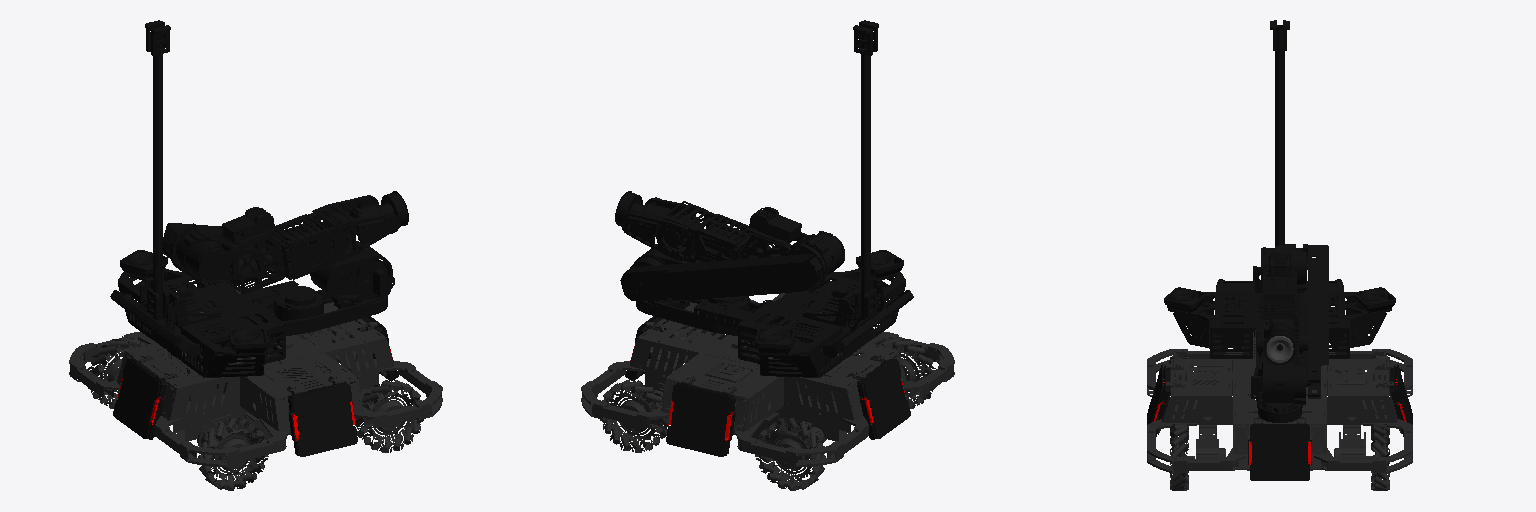
URDF robot description (Engineer_Robot):
<?xml version="1.0" encoding="utf-8"?>
<!-- This URDF was automatically created by SolidWorks to URDF Exporter! Originally created by [author] ([email redacted]) 
     Commit Version: 1.6.0-4-g7f85cfe  Build Version: 1.6.7995.38578
     For more information, please see http://wiki.ros.org/sw_urdf_exporter -->
<robot
  name="Engineer_Robot">
  <link
    name="base_link">
    <inertial>
      <origin
        xyz="-0.0055963 0.017859 0.11879"
        rpy="0 0 0" />
      <mass
        value="7.3797" />
      <inertia
        ixx="0.015845"
        ixy="6.479E-07"
        ixz="3.208E-06"
        iyy="0.025117"
        iyz="2.7788E-06"
        izz="0.036817" />
    </inertial>
    <visual>
      <origin
        xyz="0 0 0"
        rpy="0 0 0" />
      <geometry>
        <mesh
          filename="package://Engineer_Robot/meshes/base_link.STL" />
      </geometry>
      <material
        name="black">
        <color
          rgba="0.2 0.2 0.2 1" />
      </material>
    </visual>
    <collision>
      <origin
        xyz="0 0 0"
        rpy="0 0 0" />
      <geometry>
        <mesh
          filename="package://Engineer_Robot/meshes/base_link.STL" />
      </geometry>
    </collision>
  </link>
  <link
    name="Armor_link">
    <inertial>
      <origin
        xyz="-2.0487E-15 -3.3999E-15 0.22827"
        rpy="0 0 0" />
      <mass
        value="1.0609" />
      <inertia
        ixx="0.04212"
        ixy="-6.3375E-16"
        ixz="-3.8306E-16"
        iyy="0.04212"
        iyz="5.5474E-16"
        izz="0.043272" />
    </inertial>
    <visual>
      <origin
        xyz="0 0 0"
        rpy="0 0 0" />
      <geometry>
        <mesh
          filename="package://Engineer_Robot/meshes/Armor_link.STL" />
      </geometry>
      <material
        name="black">
        <color
          rgba="0.1 0.1 0.1 1" />
      </material>
    </visual>
    <collision>
      <origin
        xyz="0 0 0"
        rpy="0 0 0" />
      <geometry>
        <mesh
          filename="package://Engineer_Robot/meshes/Armor_link.STL" />
      </geometry>
    </collision>
  </link>
  <joint
    name="Armor_joint"
    type="fixed">
    <origin
      xyz="0 0 0"
      rpy="0 0 0" />
    <parent
      link="base_link" />
    <child
      link="Armor_link" />
    <axis
      xyz="0 0 0" />
  </joint>
  <link
    name="Armor_light_link">
    <inertial>
      <origin
        xyz="7.5251E-16 2.1975E-15 0.13026"
        rpy="0 0 0" />
      <mass
        value="0.028432" />
      <inertia
        ixx="8.7023E-06"
        ixy="3.3947E-21"
        ixz="1.5404E-20"
        iyy="8.7023E-06"
        iyz="1.7364E-20"
        izz="1.2557E-06" />
    </inertial>
    <visual>
      <origin
        xyz="0 0 0"
        rpy="0 0 0" />
      <geometry>
        <mesh
          filename="package://Engineer_Robot/meshes/Armor_light_link.STL" />
      </geometry>
      <material
        name="red">
        <color
          rgba="1 0 0 1" />
      </material>
    </visual>
    <collision>
      <origin
        xyz="0 0 0"
        rpy="0 0 0" />
      <geometry>
        <mesh
          filename="package://Engineer_Robot/meshes/Armor_light_link.STL" />
      </geometry>
    </collision>
  </link>
  <joint
    name="Armor_light_joint"
    type="fixed">
    <origin
      xyz="0 0 0"
      rpy="0 0 0" />
    <parent
      link="Armor_link" />
    <child
      link="Armor_light_link" />
    <axis
      xyz="0 0 0" />
  </joint>
  <link
    name="L1">
    <inertial>
      <origin
        xyz="-0.060868 -0.002963 0.27584"
        rpy="0 0 0" />
      <mass
        value="5.3051" />
      <inertia
        ixx="0.16383"
        ixy="-2.5432E-06"
        ixz="-5.6383E-05"
        iyy="0.16306"
        iyz="1.0311E-05"
        izz="0.26379" />
    </inertial>
    <visual>
      <origin
        xyz="0 0 0"
        rpy="0 0 0" />
      <geometry>
        <mesh
          filename="package://Engineer_Robot/meshes/L1.STL" />
      </geometry>
      <material
        name="black">
        <color
          rgba="0.1 0.1 0.1 1" />
      </material>
    </visual>
    <collision>
      <origin
        xyz="0 0 0"
        rpy="0 0 0" />
      <geometry>
        <mesh
          filename="package://Engineer_Robot/meshes/L1.STL" />
      </geometry>
    </collision>
  </link>
  <joint
    name="J1"
    type="continuous">
    <origin
      xyz="0 0 0"
      rpy="0 0 0" />
    <parent
      link="base_link" />
    <child
      link="L1" />
    <axis
      xyz="0 0 1" />
  </joint>
  <link
    name="L2">
    <inertial>
      <origin
        xyz="-0.025806 0.014363 0.04429"
        rpy="0 0 0" />
      <mass
        value="1.1249" />
      <inertia
        ixx="0.00091282"
        ixy="5.7367E-05"
        ixz="0.0001141"
        iyy="0.0016549"
        iyz="-2.0441E-05"
        izz="0.0012244" />
    </inertial>
    <visual>
      <origin
        xyz="0 0 0"
        rpy="0 0 0" />
      <geometry>
        <mesh
          filename="package://Engineer_Robot/meshes/L2.STL" />
      </geometry>
      <material
        name="black">
        <color
          rgba="0.1 0.1 0.1 1" />
      </material>
    </visual>
    <collision>
      <origin
        xyz="0 0 0"
        rpy="0 0 0" />
      <geometry>
        <mesh
          filename="package://Engineer_Robot/meshes/L2.STL" />
      </geometry>
    </collision>
  </link>
  <joint
    name="J2"
    type="continuous">
    <origin
      xyz="0.25 0 0.2461"
      rpy="0 0 0" />
    <parent
      link="L1" />
    <child
      link="L2" />
    <axis
      xyz="0 0 -1" />
  </joint>
  <link
    name="L3">
    <inertial>
      <origin
        xyz="0.20313 -0.00010391 -0.022422"
        rpy="0 0 0" />
      <mass
        value="0.6239" />
      <inertia
        ixx="0.00031376"
        ixy="1.5589E-06"
        ixz="2.153E-05"
        iyy="0.0063851"
        iyz="-3.1694E-11"
        izz="0.0065604" />
    </inertial>
    <visual>
      <origin
        xyz="0 0 0"
        rpy="0 0 0" />
      <geometry>
        <mesh
          filename="package://Engineer_Robot/meshes/L3.STL" />
      </geometry>
      <material
        name="black">
        <color
          rgba="0.1 0.1 0.1 1" />
      </material>
    </visual>
    <collision>
      <origin
        xyz="0 0 0"
        rpy="0 0 0" />
      <geometry>
        <mesh
          filename="package://Engineer_Robot/meshes/L3.STL" />
      </geometry>
    </collision>
  </link>
  <joint
    name="J3"
    type="revolute">
    <origin
      xyz="0 0.0584 0.04895"
      rpy="-1.5707963267949 -0.296705972839045 3.14159265358977" />
    <limit lower="-2" upper="0" effort="1000" velocity="100.0"/>
    <parent
      link="L2" />
    <child
      link="L3" />
    <axis
      xyz="0 0 1" />
  </joint>
  <link
    name="L4">
    <inertial>
      <origin
        xyz="0.034236 -0.013833 0.053129"
        rpy="0 0 0" />
      <mass
        value="1.3522" />
      <inertia
        ixx="0.00095264"
        ixy="3.551E-06"
        ixz="-6.537E-05"
        iyy="0.0009452"
        iyz="-5.0083E-06"
        izz="0.001477" />
    </inertial>
    <visual>
      <origin
        xyz="0 0 0"
        rpy="0 0 0" />
      <geometry>
        <mesh
          filename="package://Engineer_Robot/meshes/L4.STL" />
      </geometry>
      <material
        name="black">
        <color
          rgba="0.1 0.1 0.1 1" />
      </material>
    </visual>
    <collision>
      <origin
        xyz="0 0 0"
        rpy="0 0 0" />
      <geometry>
        <mesh
          filename="package://Engineer_Robot/meshes/L4.STL" />
      </geometry>
    </collision>
  </link>
  <joint
    name="J4"
    type="revolute">
    <origin
      xyz="0.38 0 0"
      rpy="0 0 -2.70526034059121" />
    <limit lower="-3.14" upper="0.0" effort="1000" velocity="100.0"/>
    <parent
      link="L3" />
    <child
      link="L4" />
    <axis
      xyz="0 0 -1" />
  </joint>
  <link
    name="L5">
    <inertial>
      <origin
        xyz="0.003077 0.014376 0.099804"
        rpy="0 0 0" />
      <mass
        value="0.80501" />
      <inertia
        ixx="0.0014293"
        ixy="1.1266E-05"
        ixz="-9.1806E-07"
        iyy="0.0012902"
        iyz="-0.00012067"
        izz="0.00044083" />
    </inertial>
    <visual>
      <origin
        xyz="0 0 0"
        rpy="0 0 0" />
      <geometry>
        <mesh
          filename="package://Engineer_Robot/meshes/L5.STL" />
      </geometry>
      <material
        name="black">
        <color
          rgba="0.1 0.1 0.1 1" />
      </material>
    </visual>
    <collision>
      <origin
        xyz="0 0 0"
        rpy="0 0 0" />
      <geometry>
        <mesh
          filename="package://Engineer_Robot/meshes/L5.STL" />
      </geometry>
    </collision>
  </link>
  <joint
    name="J5"
    type="continuous">
    <origin
      xyz="0.155474398665704 -0.0549927158958655 0.0584"
      rpy="0.139626340159536 1.5707963267949 0" />
    <parent
      link="L4" />
    <child
      link="L5" />
    <axis
      xyz="0 -0.139173100960056 -0.990268068741572" />
  </joint>
  <link
    name="L6">
    <inertial>
      <origin
        xyz="-0.014178 0.00034988 0.00019642"
        rpy="0 0 0" />
      <mass
        value="0.23111" />
      <inertia
        ixx="7.4615E-05"
        ixy="-4.115E-07"
        ixz="-4.4427E-07"
        iyy="5.8424E-05"
        iyz="6.3801E-07"
        izz="5.6898E-05" />
    </inertial>
    <visual>
      <origin
        xyz="0 0 0"
        rpy="0 0 0" />
      <geometry>
        <mesh
          filename="package://Engineer_Robot/meshes/L6.STL" />
      </geometry>
      <material
        name="black">
        <color
          rgba="0.1 0.1 0.1 1" />
      </material>
    </visual>
    <collision>
      <origin
        xyz="0 0 0"
        rpy="0 0 0" />
      <geometry>
        <mesh
          filename="package://Engineer_Robot/meshes/L6.STL" />
      </geometry>
    </collision>
  </link>
  <joint
    name="J6"
    type="revolute">
    <origin
      xyz="0.00349999999999961 0.0334015442304132 0.237664336497977"
      rpy="-1.57079632679491 -1.43116998663536 1.57079632679491" />
    <limit lower="-1.57" upper="1.57" effort="1000" velocity="100.0"/>
    <parent
      link="L5" />
    <child
      link="L6" />
    <axis
      xyz="0 0 -1" />
  </joint>
  <link
    name="L7">
    <inertial>
      <origin
        xyz="9.331E-10 2.3856E-09 0.023897"
        rpy="0 0 0" />
      <mass
        value="0.11514" />
      <inertia
        ixx="5.2794E-05"
        ixy="1.0609E-08"
        ixz="1.8723E-11"
        iyy="5.2769E-05"
        iyz="6.0169E-12"
        izz="5.835E-05" />
    </inertial>
    <visual>
      <origin
        xyz="0 0 0"
        rpy="0 0 0" />
      <geometry>
        <mesh
          filename="package://Engineer_Robot/meshes/L7.STL" />
      </geometry>
      <material
        name="">
        <color
          rgba="0.1 0.1 0.1 1" />
      </material>
    </visual>
    <collision>
      <origin
        xyz="0 0 0"
        rpy="0 0 0" />
      <geometry>
        <mesh
          filename="package://Engineer_Robot/meshes/L7.STL" />
      </geometry>
    </collision>
  </link>
  <joint
    name="J7"
    type="continuous">
    <origin
      xyz="-0.00399871055885126 0.000101557208172787 0.00349917389544382"
      rpy="0.025392030562591 1.5707963267949 0" />
    <parent
      link="L6" />
    <child
      link="L7" />
    <axis
      xyz="0 0 -1" />
  </joint>
  <link
    name="End_link">
    <inertial>
      <origin
        xyz="-3.0656E-18 1.1102E-16 0.041125"
        rpy="0 0 0" />
      <mass
        value="0.020654" />
      <inertia
        ixx="5.3233E-06"
        ixy="2.1671E-22"
        ixz="-3.4865E-22"
        iyy="5.3233E-06"
        iyz="-3.1764E-22"
        izz="8.2808E-06" />
    </inertial>
    <visual>
      <origin
        xyz="0 0 0"
        rpy="0 0 0" />
      <geometry>
        <mesh
          filename="package://Engineer_Robot/meshes/End_link.STL" />
      </geometry>
      <material
        name="">
        <color
          rgba="0.29804 0.29804 0.29804 1" />
      </material>
    </visual>
    <collision>
      <origin
        xyz="0 0 0"
        rpy="0 0 0" />
      <geometry>
        <mesh
          filename="package://Engineer_Robot/meshes/End_link.STL" />
      </geometry>
    </collision>
  </link>
  <joint
    name="End_joint"
    type="fixed">
    <origin
      xyz="0 0 0"
      rpy="0 0 0" />
    <parent
      link="L7" />
    <child
      link="End_link" />
    <axis
      xyz="0 0 0" />
  </joint>
</robot>

--- Facts derived from the render (not from the file) ---
The picture shows the robot from 3 angles, left to right: view 1: azimuth 30°, elevation 25°; view 2: azimuth 150°, elevation 25°; view 3: azimuth 270°, elevation 25°; orthographic projection.
Model Engineer_Robot with 11 links and 10 joints (3 revolute, 4 continuous, 3 fixed), rooted at base_link, posed every joint at zero.
Visible links, largest first — view 1: base_link, L1, Armor_link, L4, L5, L2, L6, L3, L7; view 2: base_link, L1, L3, Armor_link, L5, L4, L2, L7; view 3: base_link, L1, Armor_link, L3, L2, L4, L5, End_link.
Link boxes in pixels (box(x1,y1,x2,y2)): base_link: box(69, 290, 442, 490); L1: box(110, 20, 387, 377); Armor_link: box(113, 316, 398, 456); L4: box(170, 207, 285, 293); L5: box(271, 195, 397, 279); L2: box(310, 241, 394, 301); L6: box(350, 199, 400, 235); L3: box(163, 223, 332, 267); L7: box(381, 191, 408, 226); base_link: box(581, 293, 954, 490); L1: box(636, 20, 913, 377); L3: box(620, 254, 824, 300); Armor_link: box(625, 312, 910, 456); L5: box(621, 198, 752, 262); L4: box(741, 207, 844, 293); L2: box(630, 244, 689, 302); L7: box(615, 191, 642, 225); base_link: box(1147, 330, 1412, 490); L1: box(1164, 20, 1395, 422); Armor_link: box(1147, 332, 1412, 480); L3: box(1308, 245, 1328, 398); L2: box(1251, 352, 1310, 413); L4: box(1261, 244, 1307, 298); L5: box(1256, 295, 1307, 353); End_link: box(1266, 336, 1293, 362).
Size in the robot's own frame: 0.634 by 0.59 by 0.9435 metres.
Meshes: 11 distinct files referenced, 11 mesh visuals loaded (11 binary STL).